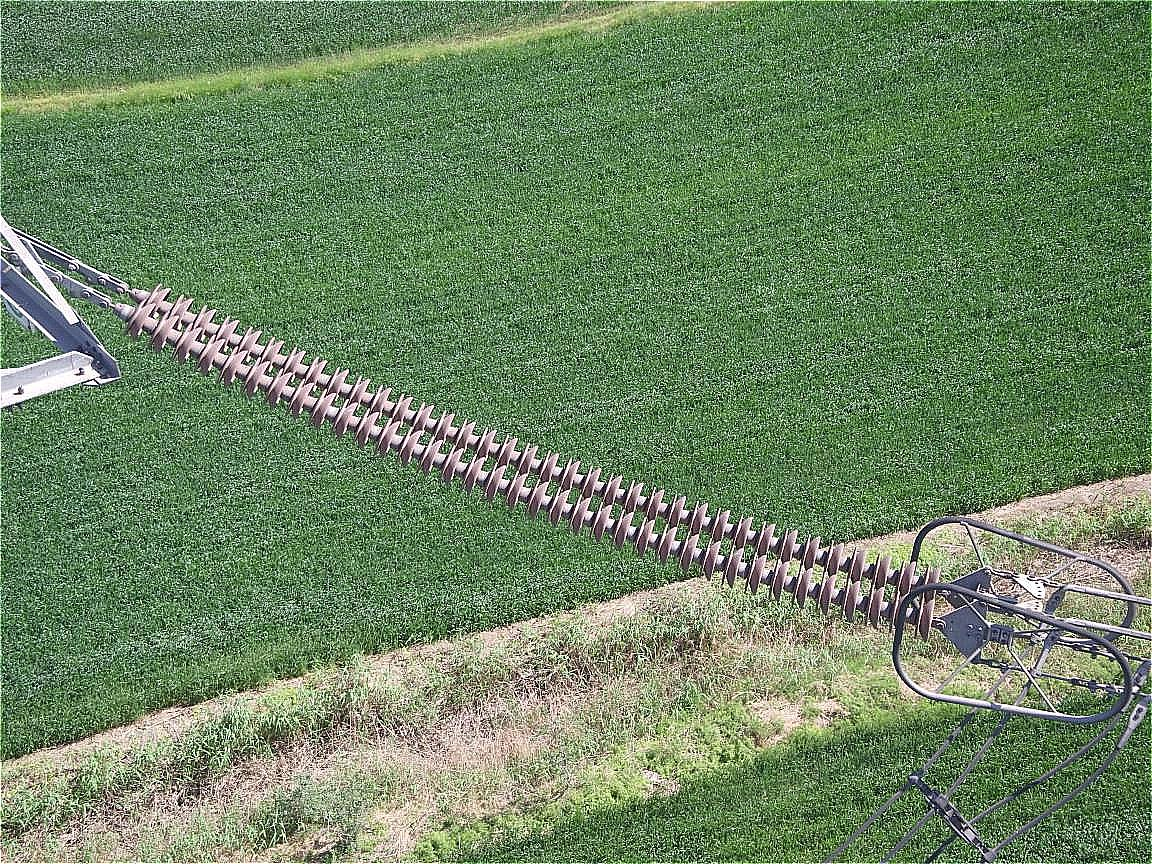insultor2: (99, 278, 956, 641)
